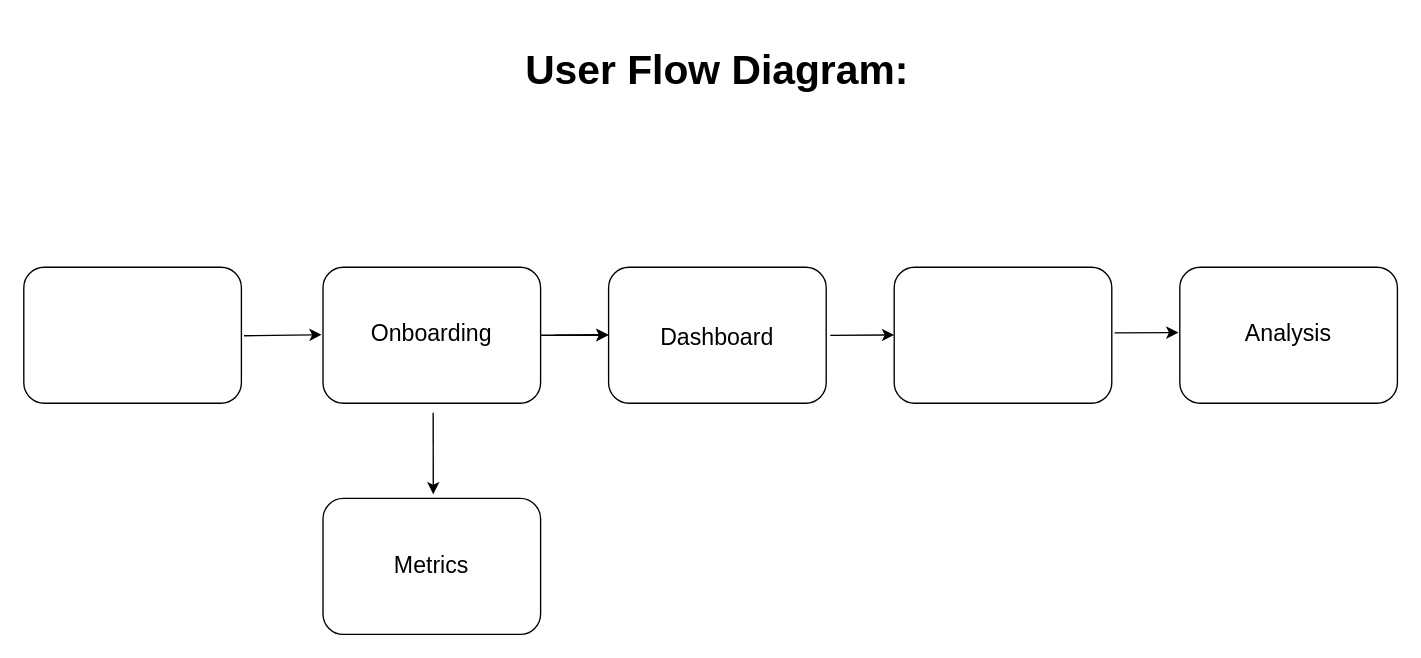
Image size: 1421x658. Some labels were removed from this diagram. The shapes that lost their labels are listed below. From the top down, each one's centre as x and y in pixels, then its label:
the point at 131,334: Sign up
the point at 1002,334: Upload Record
